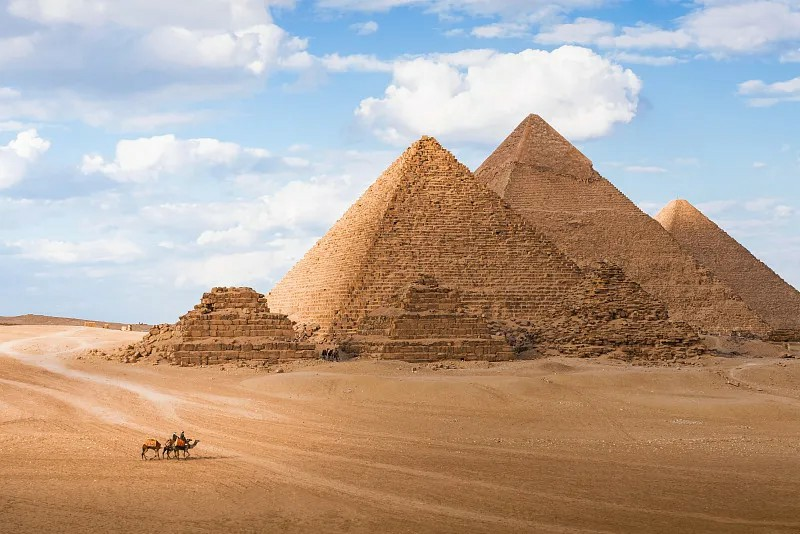Pyramid: (474, 114, 777, 342), (266, 136, 585, 337), (653, 198, 800, 340), (534, 261, 713, 359), (345, 274, 518, 363), (142, 288, 323, 363)
